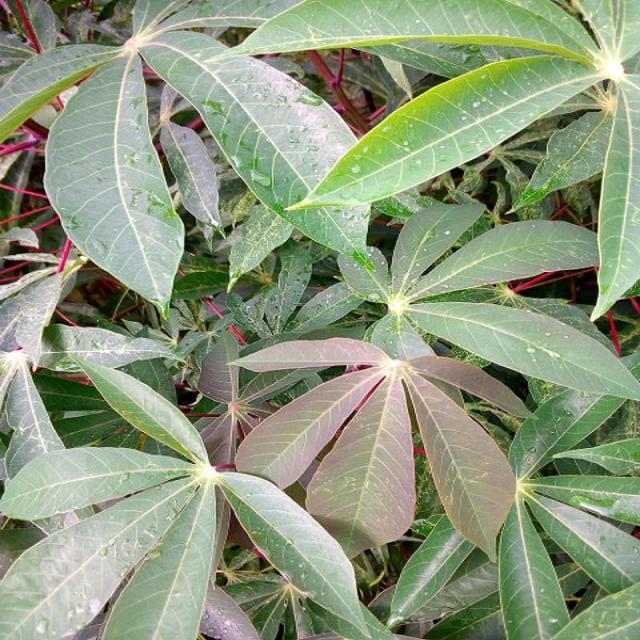cassava leaf: (0, 1, 638, 638), (138, 28, 372, 261), (283, 52, 605, 214), (41, 50, 186, 317)
